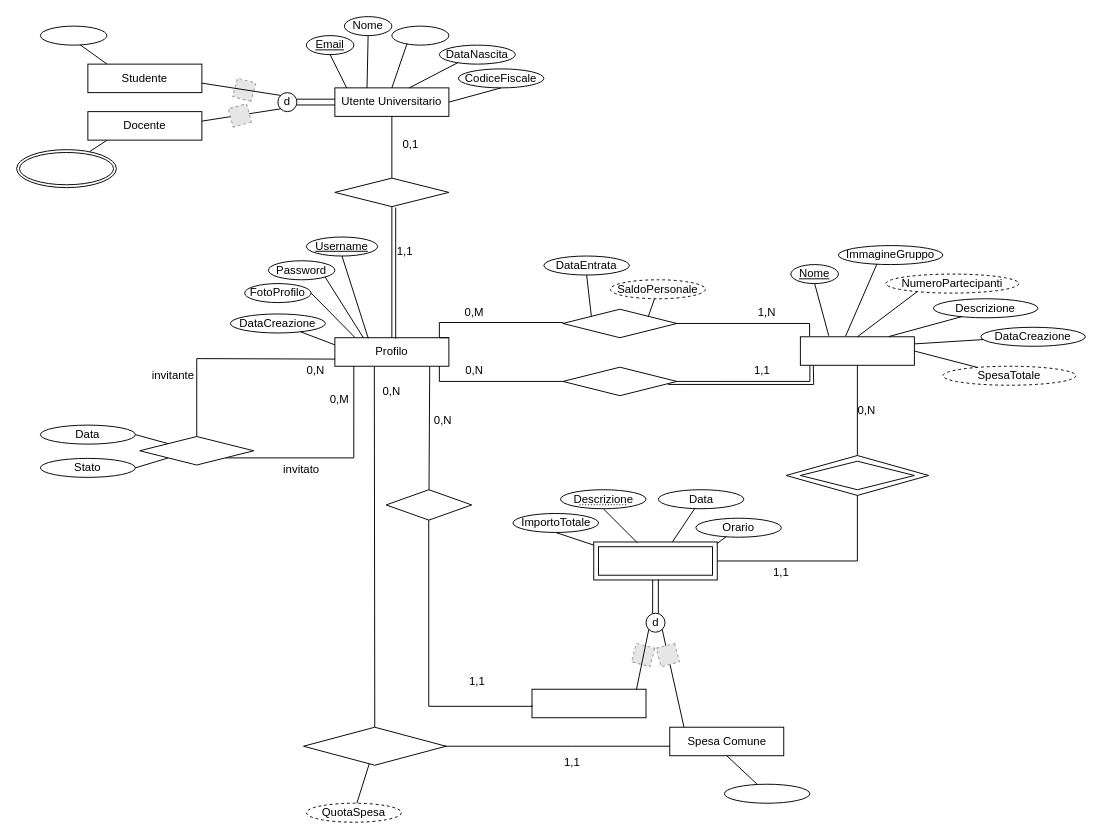
Image size: 1102x839. Some labels were removed from this diagram. Grey dashed boxes stand in for pictures. The shapes that lost their labels are listed below. From the top down, each one's centre as x and y in pixels, then its label:
At (73,35): "Matricola".
At (420,35): "Cognome".
At (66,168): "CodiceInsegnamento".
At (391,192): "Accesso".
At (619,323): "Partecipazione".
At (856,350): "Gruppo".
At (619,381): "Proprietà".
At (196,450): "Invito".
At (856,475): "Registrazione".
At (428,504): "Acquisto".
At (655,560): "Spesa".
At (588,703): "Spesa Personale".
At (374,745): "Effettua".
At (766,793): "Pagante".
